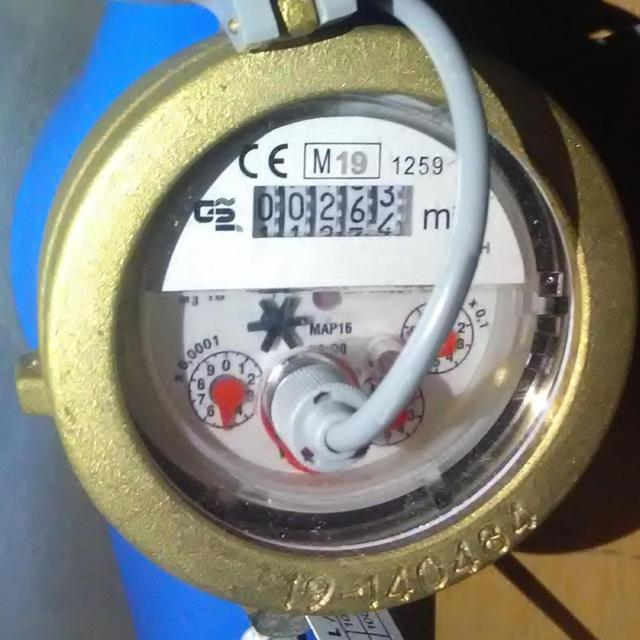gaz_meter: (120, 93, 578, 549)
indication: (250, 185, 412, 238)
